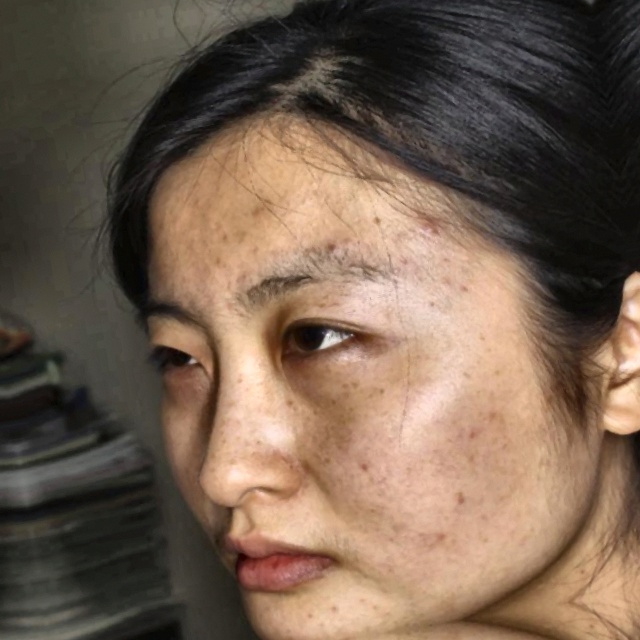comedone: (404, 205, 459, 255)
